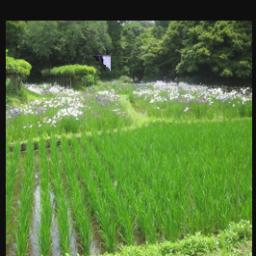Crow: (82, 55, 110, 135)
